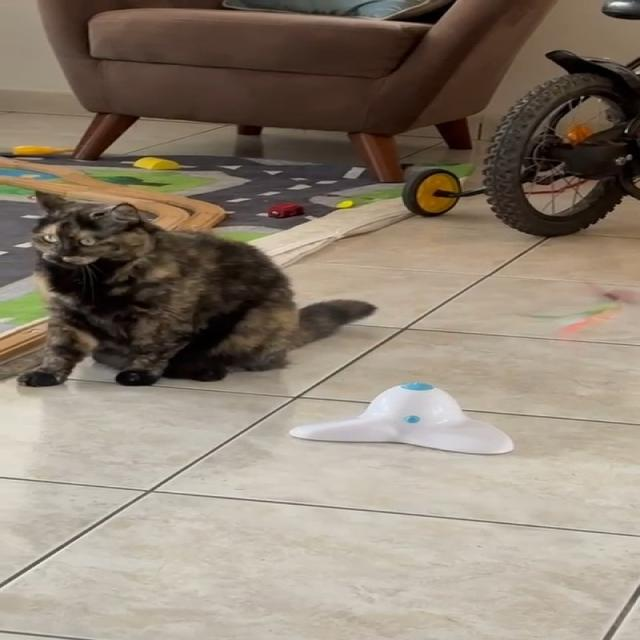authorized: (16, 190, 377, 387)
